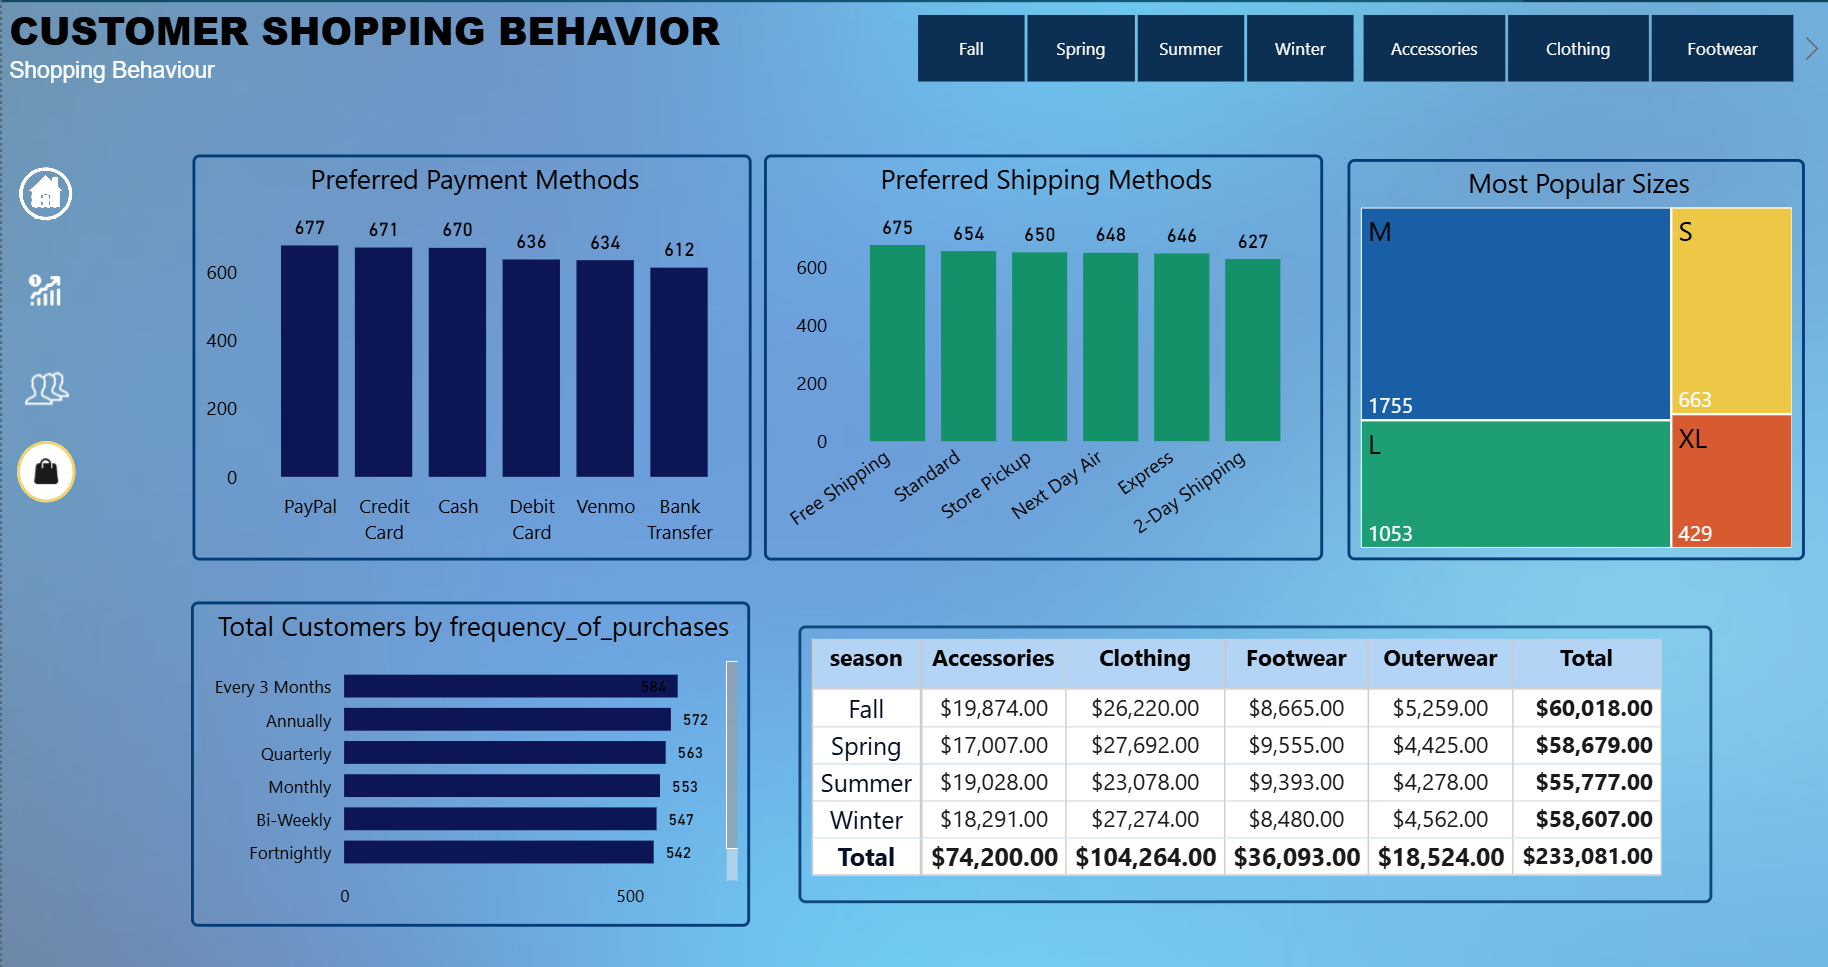

What the dashboard file says about the page in this screenshot:
{"tool":"powerbi","page":{"name":"Shopping Behaviour","canvas":[1280,720],"ordinal":3},"visuals":[{"type":"textbox","box":[0,20,521.6,74.7],"z":0},{"type":"columnChart","title":"Preferred Payment Methods","fields":{"Category":["customer.payment_method"],"Y":["A_measures.Total Customers"]},"box":[133.5,131,391.8,284.6],"z":1000},{"type":"columnChart","title":"Preferred Shipping Methods","fields":{"Category":["customer.shipping_type"],"Y":["A_measures.Total Customers"]},"box":[533.9,131,391.8,284.6],"z":2000},{"type":"treemap","title":"\tMost Popular Sizes","fields":{"Group":["customer.size"],"Values":["A_measures.Total Customers"]},"box":[943.1,134.2,320.4,281.4],"z":3000},{"type":"pivotTable","fields":{"Rows":["customer.season"],"Columns":["customer.category"],"Values":["A_measures.Revenue"]},"box":[558.4,461.7,640.4,194.6],"z":4000},{"type":"slicer","fields":{"Values":["customer.season"]},"box":[616.3,26.3,355.4,61],"z":5000},{"type":"slicer","fields":{"Values":["customer.category"]},"box":[928.6,26.3,351.2,61],"z":6000},{"type":"actionButton","box":[10.5,332.3,41,43.1],"z":7000},{"type":"clusteredBarChart","fields":{"Category":["customer.frequency_of_purchases"],"Y":["A_measures.Total Customers"]},"box":[132.5,444.8,392.3,228.2],"z":8000},{"type":"image","box":[0,134.6,61,48.4],"z":9000},{"type":"actionButton","box":[2.1,264,58.9,62],"z":10000},{"type":"actionButton","box":[5.3,201.9,50.5,50.5],"z":11000}]}

Visuals, with their boxes on the page's 1280x720 design canvas (x1, y1, x2, y2). These are canvas units, not pixel positions in the 1828x967 screenshot, which may show the page scaled, cropped or inside an application window:
textbox: (0,20,522,95)
"Preferred Payment Methods" columnChart: (134,131,525,416)
"Preferred Shipping Methods" columnChart: (534,131,926,416)
"	Most Popular Sizes" treemap: (943,134,1264,416)
pivotTable - customer.season x customer.category: (558,462,1199,656)
slicer - customer.season: (616,26,972,87)
slicer - customer.category: (929,26,1280,87)
actionButton: (10,332,52,375)
clusteredBarChart - customer.frequency_of_purchases x A_measures.Total Customers: (132,445,525,673)
image: (0,135,61,183)
actionButton: (2,264,61,326)
actionButton: (5,202,56,252)
